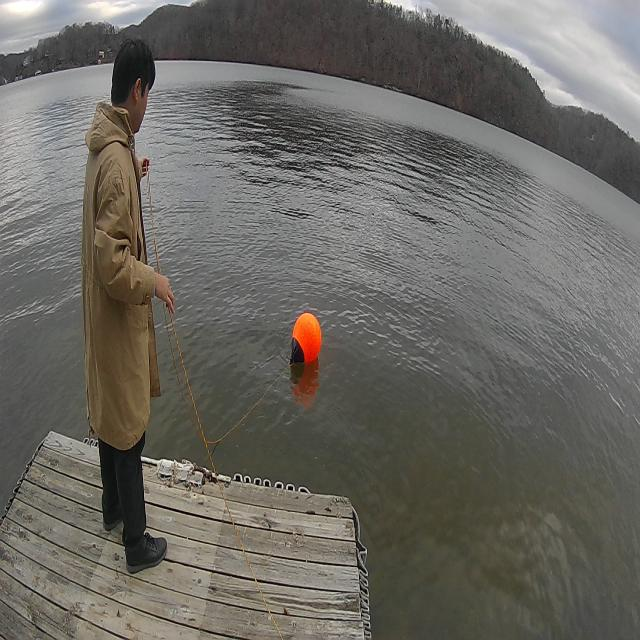Buoy: (286, 309, 325, 374)
